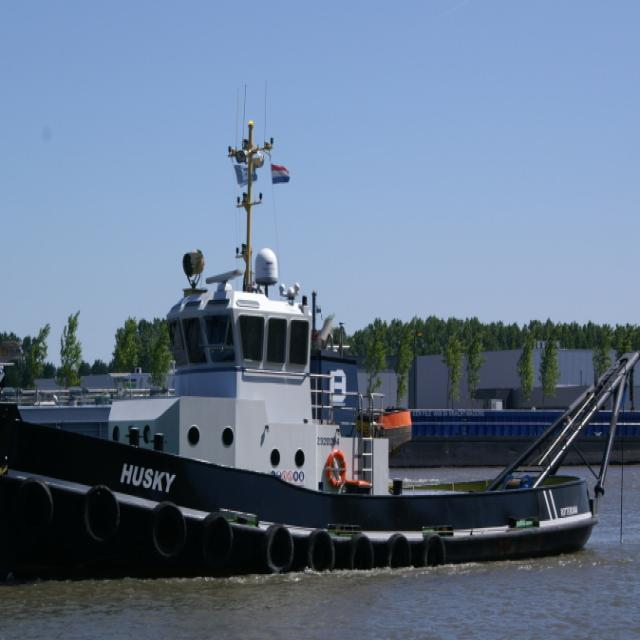tugboat: (1, 77, 640, 607)
